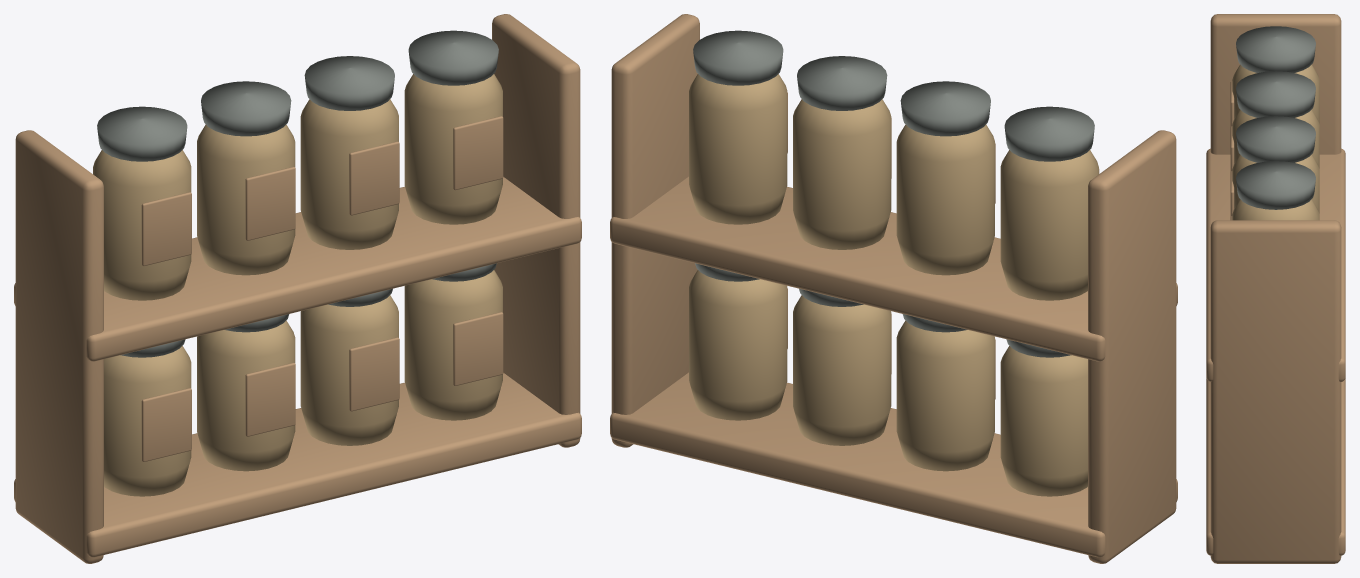
The model's file is spice_rack.glb.
The picture shows the model from 3 angles, left to right: view 1: azimuth 30°, elevation 25°; view 2: azimuth 150°, elevation 25°; view 3: azimuth 270°, elevation 25°; orthographic projection. The views are drawn at different scales.
Parts seen in each view (by area): view 1: spice_rack__body, spice_rack__glass, spice_rack__accent; view 2: spice_rack__body, spice_rack__glass, spice_rack__accent; view 3: spice_rack__body, spice_rack__accent, spice_rack__glass.
Part boxes in pixels (x1,y1,x2,y2): spice_rack__body: (14, 14, 581, 563); spice_rack__glass: (93, 74, 502, 496); spice_rack__accent: (97, 30, 498, 357); spice_rack__body: (610, 14, 1177, 563); spice_rack__glass: (689, 74, 1098, 496); spice_rack__accent: (693, 30, 1094, 357); spice_rack__body: (1206, 14, 1345, 563); spice_rack__accent: (1236, 26, 1315, 209); spice_rack__glass: (1232, 64, 1319, 220).
Size of the model in its own units: 0.292 by 0.2245 by 0.08.
